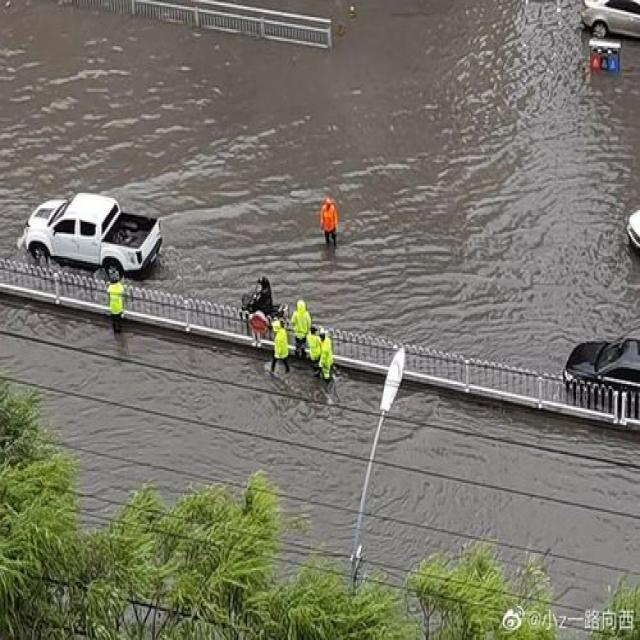rescuer: (97, 275, 133, 330), (317, 191, 344, 256), (317, 327, 343, 392), (287, 301, 314, 347), (270, 319, 290, 374), (305, 324, 328, 371)
